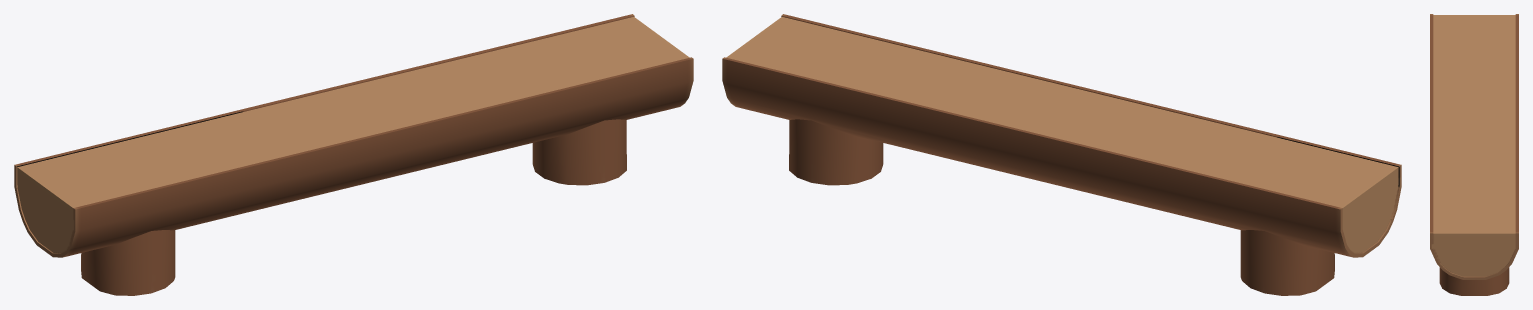
File: benchwood.glb
The picture shows the model from 3 angles, left to right: view 1: azimuth 30°, elevation 25°; view 2: azimuth 150°, elevation 25°; view 3: azimuth 270°, elevation 25°; orthographic projection. The views are drawn at different scales.
Parts seen in each view (by area): view 1: benchwood; view 2: benchwood; view 3: benchwood.
Boxes of the visible parts, left/top/right/bottom form: benchwood: left=14, top=14, right=693, bottom=295; benchwood: left=722, top=14, right=1401, bottom=295; benchwood: left=1430, top=14, right=1518, bottom=295.
Size of the model in its own units: 2.24 by 0.3766 by 0.3827.
1 material, 1 textured.
